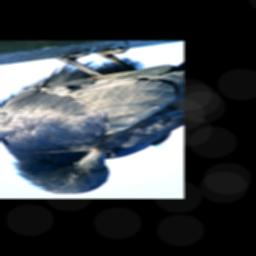Crow: (0, 41, 184, 194)
